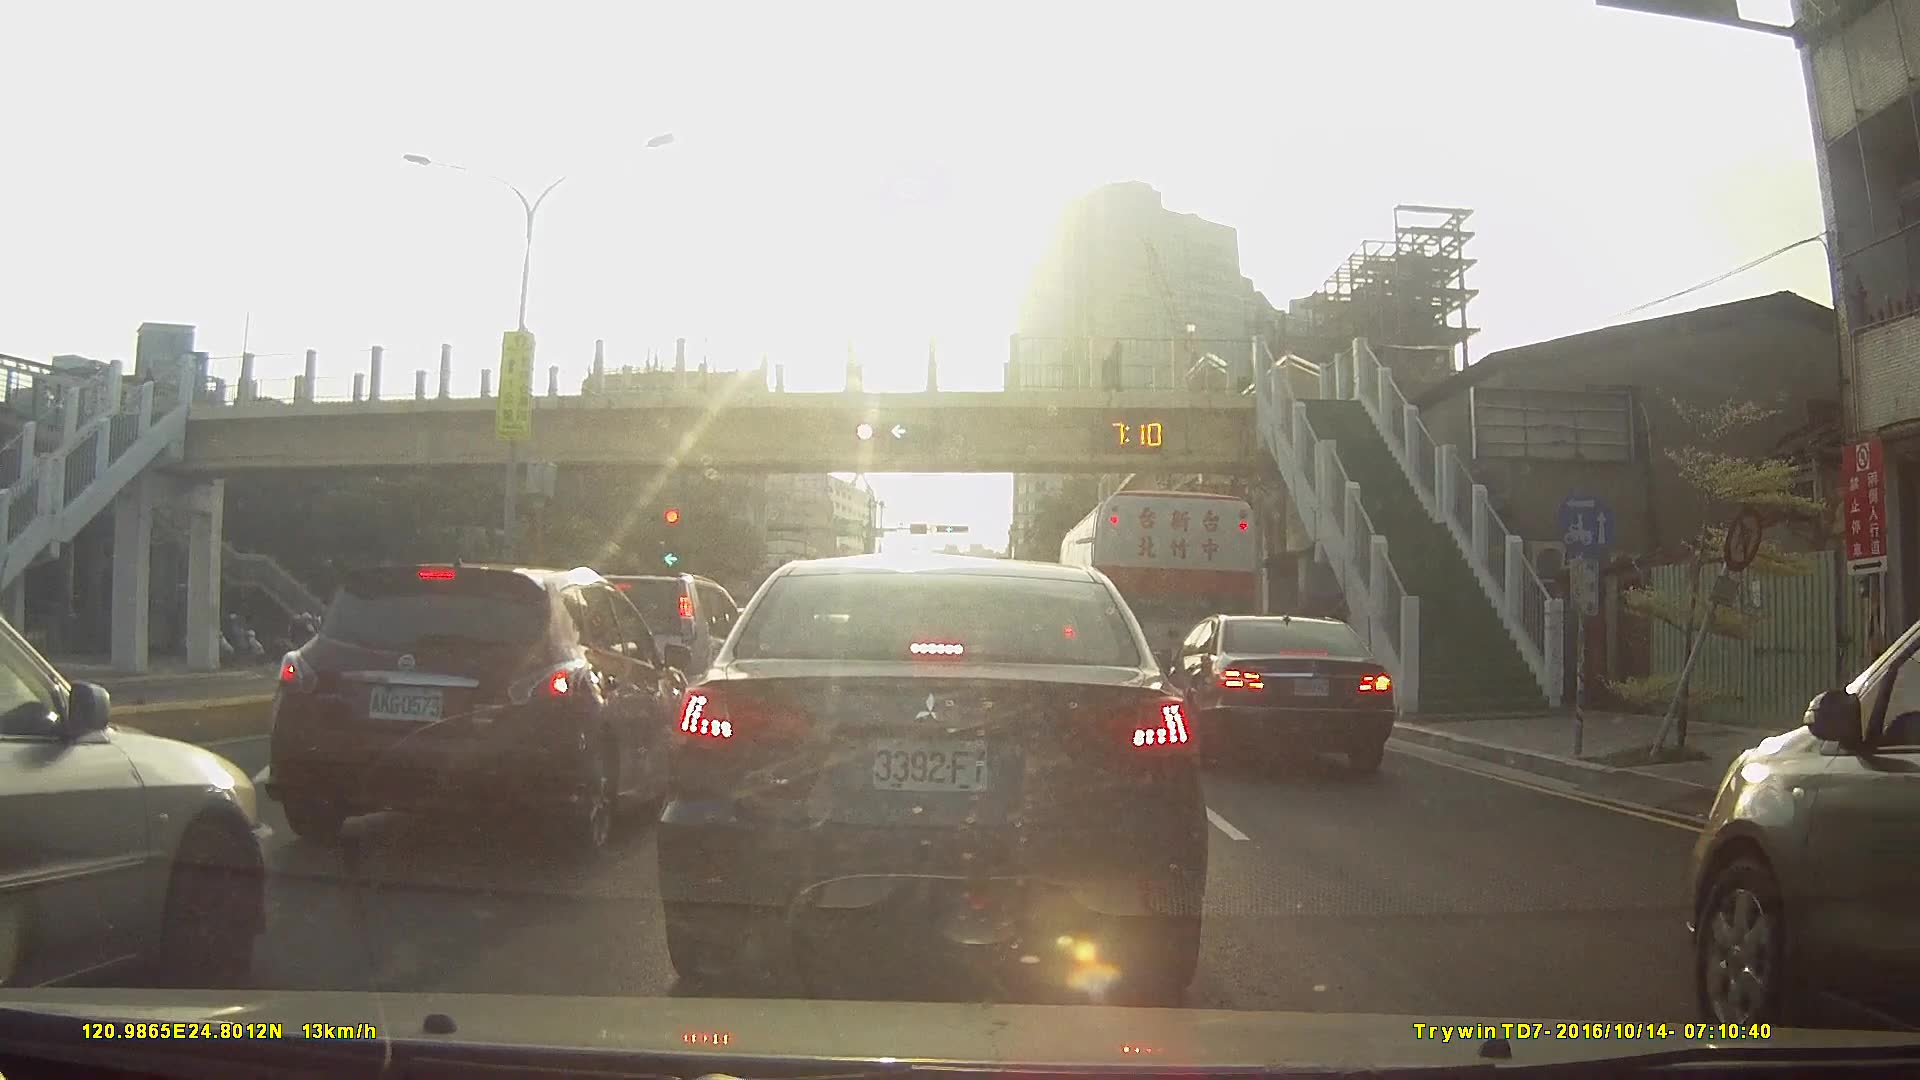pedestrian: (1100, 340, 1127, 396)
rider: (217, 613, 272, 668)
vehicle: (654, 553, 1208, 992), (264, 559, 692, 859), (0, 608, 277, 1004), (1677, 593, 1920, 1037), (1057, 487, 1261, 725), (1157, 612, 1398, 778)
